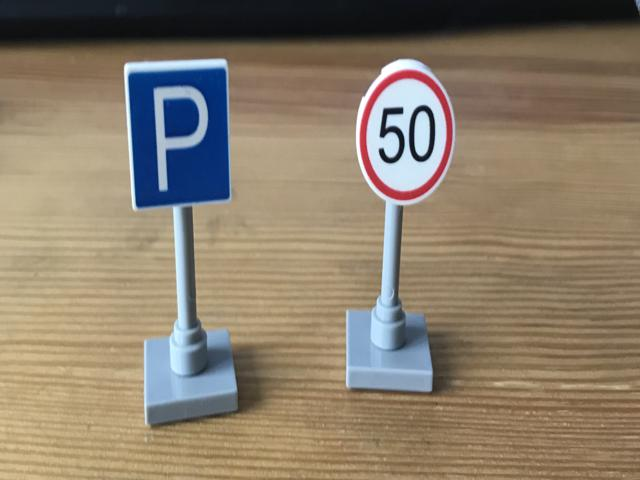parken: (126, 60, 236, 208)
tempolimit 50: (350, 62, 456, 203)
